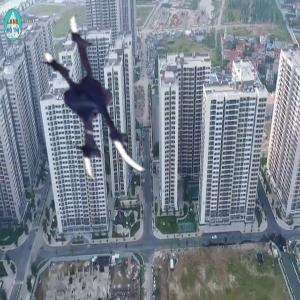drone: (22, 14, 192, 184)
